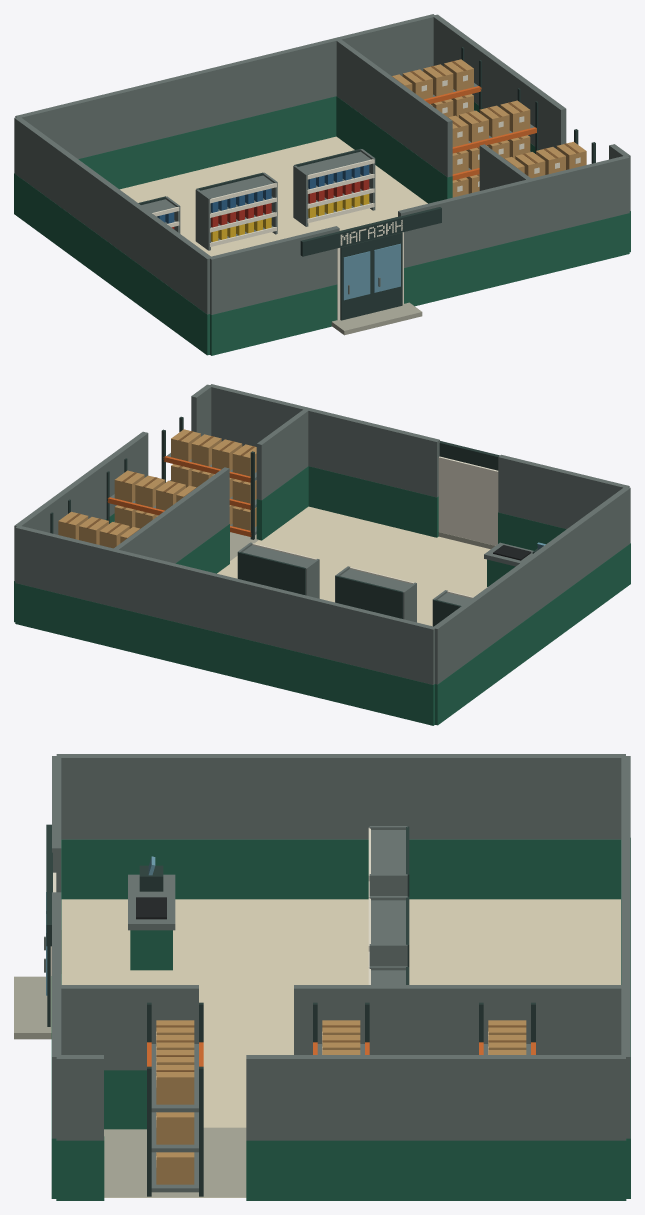
File: PlayerShopShell.obj
The picture shows the model from 3 angles, top to bottom: view 1: azimuth 30°, elevation 25°; view 2: azimuth 150°, elevation 25°; view 3: azimuth 270°, elevation 25°; orthographic projection. The views are drawn at different scales.
Parts seen in each view (by area): view 1: PlayerShopShell; view 2: PlayerShopShell; view 3: PlayerShopShell.
Part boxes in pixels (<box>): PlayerShopShell: <box>14,14,630,355</box>; PlayerShopShell: <box>14,384,630,725</box>; PlayerShopShell: <box>14,754,630,1200</box>.
Bounding box in the file's own units: 15.21 × 3.34 × 13.01.
